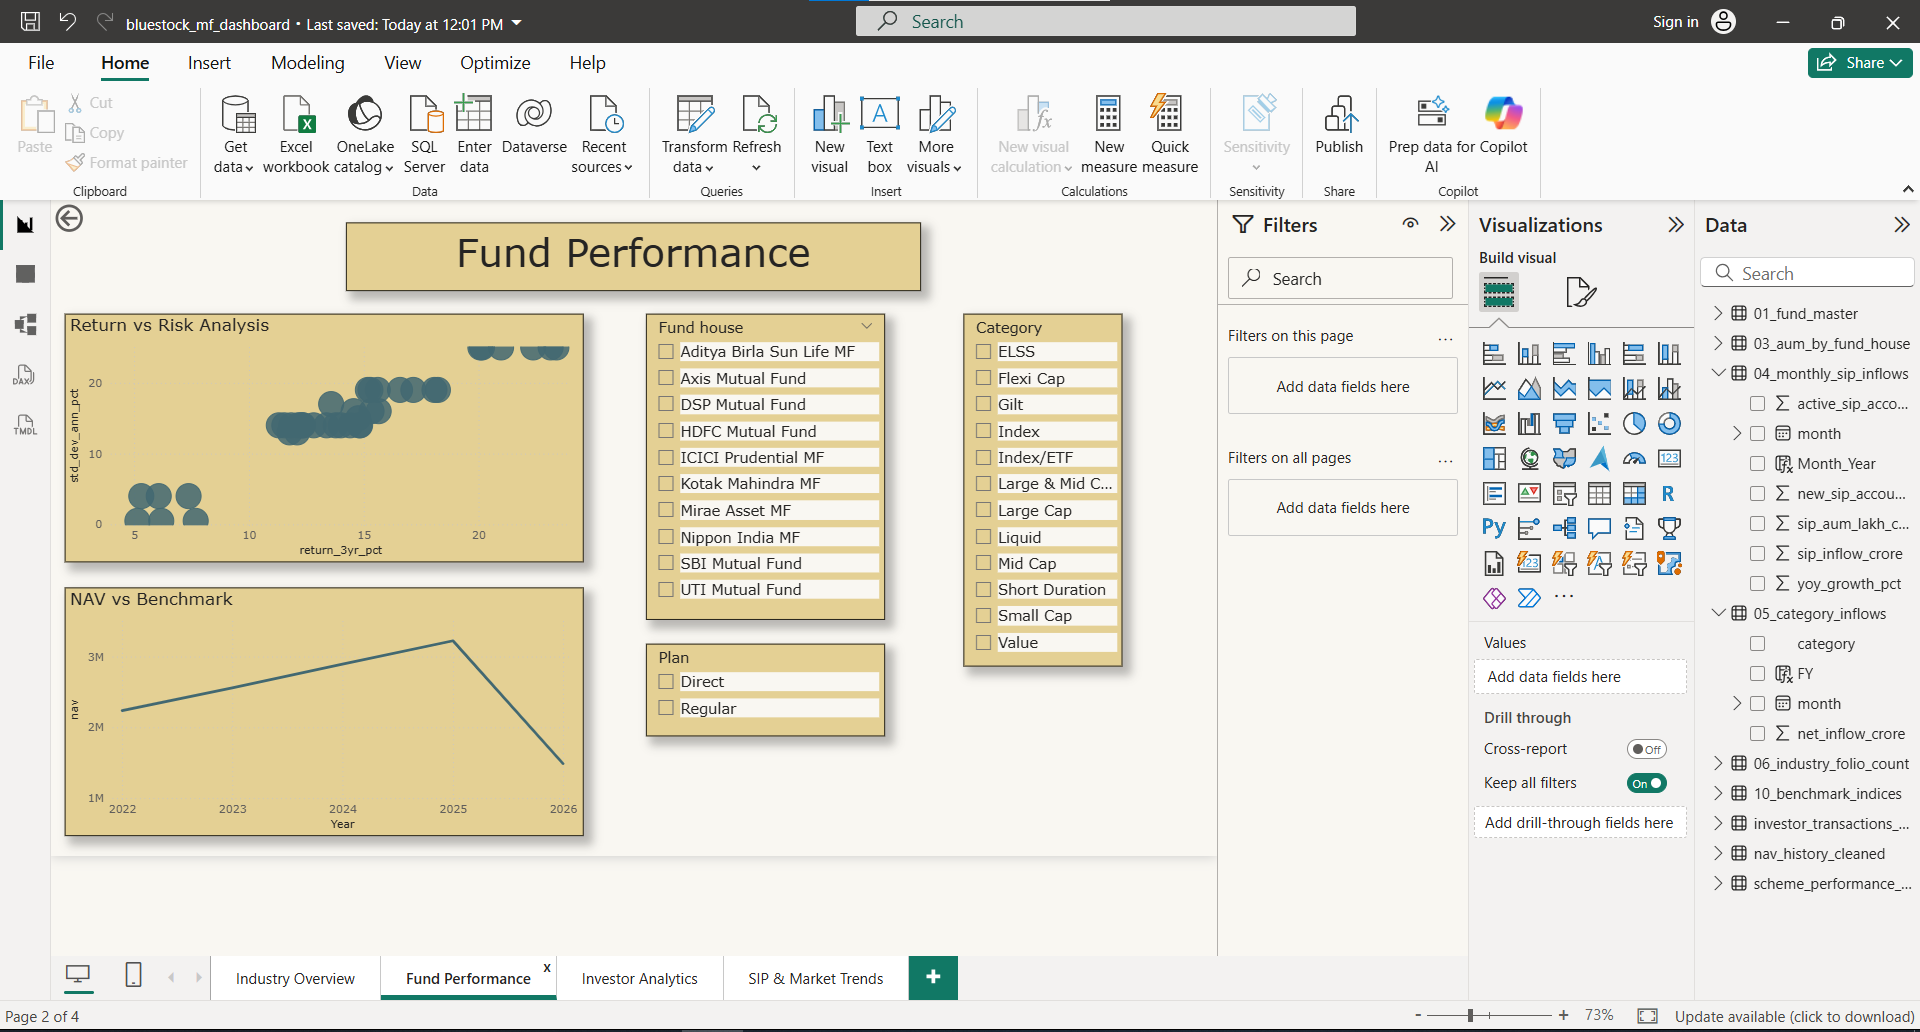

Layout of this report page (visuals, bound fields, positions):
{"tool":"powerbi","page":{"name":"Fund Performance","canvas":[1280,720],"ordinal":1},"visuals":[{"type":"textbox","box":[323.8,24.7,631.2,75.5],"z":0},{"type":"scatterChart","title":"Return vs Risk Analysis","fields":{"X":["scheme_performance_cleaned.return_3yr_pct"],"Y":["scheme_performance_cleaned.std_dev_ann_pct"],"Size":["CountNonNull(scheme_performance_cleaned.aum_crore)"]},"box":[15.1,124.9,569.5,273.1],"z":1},{"type":"actionButton","box":[0,0,100,40],"z":3},{"type":"lineChart","title":"NAV vs Benchmark","fields":{"Category":["nav_history_cleaned.date.Variation.Date Hierarchy.Year","nav_history_cleaned.date.Variation.Date Hierarchy.Quarter","nav_history_cleaned.date.Variation.Date Hierarchy.Month","nav_history_cleaned.date.Variation.Date Hierarchy.Day"],"Y":["Sum(nav_history_cleaned.nav)"]},"box":[15.1,425.4,569.5,273.1],"z":4},{"type":"slicer","fields":{"Values":["scheme_performance_cleaned.fund_house"]},"box":[653.2,124.9,262.1,336.2],"z":5},{"type":"slicer","fields":{"Values":["scheme_performance_cleaned.category"]},"box":[1001.7,124.9,174.3,387],"z":6},{"type":"slicer","fields":{"Values":["scheme_performance_cleaned.plan"]},"box":[653.2,487.1,262.1,101.5],"z":7}]}

Visuals, with their boxes on the page's 1280x720 design canvas (x1, y1, x2, y2). These are canvas units, not pixel positions in the 1920x1032 screenshot, which may show the page scaled, cropped or inside an application window:
textbox: {"left": 324, "top": 25, "right": 955, "bottom": 100}
"Return vs Risk Analysis" scatterChart: {"left": 15, "top": 125, "right": 585, "bottom": 398}
actionButton: {"left": 0, "top": 0, "right": 100, "bottom": 40}
"NAV vs Benchmark" lineChart: {"left": 15, "top": 425, "right": 585, "bottom": 698}
slicer - scheme_performance_cleaned.fund_house: {"left": 653, "top": 125, "right": 915, "bottom": 461}
slicer - scheme_performance_cleaned.category: {"left": 1002, "top": 125, "right": 1176, "bottom": 512}
slicer - scheme_performance_cleaned.plan: {"left": 653, "top": 487, "right": 915, "bottom": 589}
